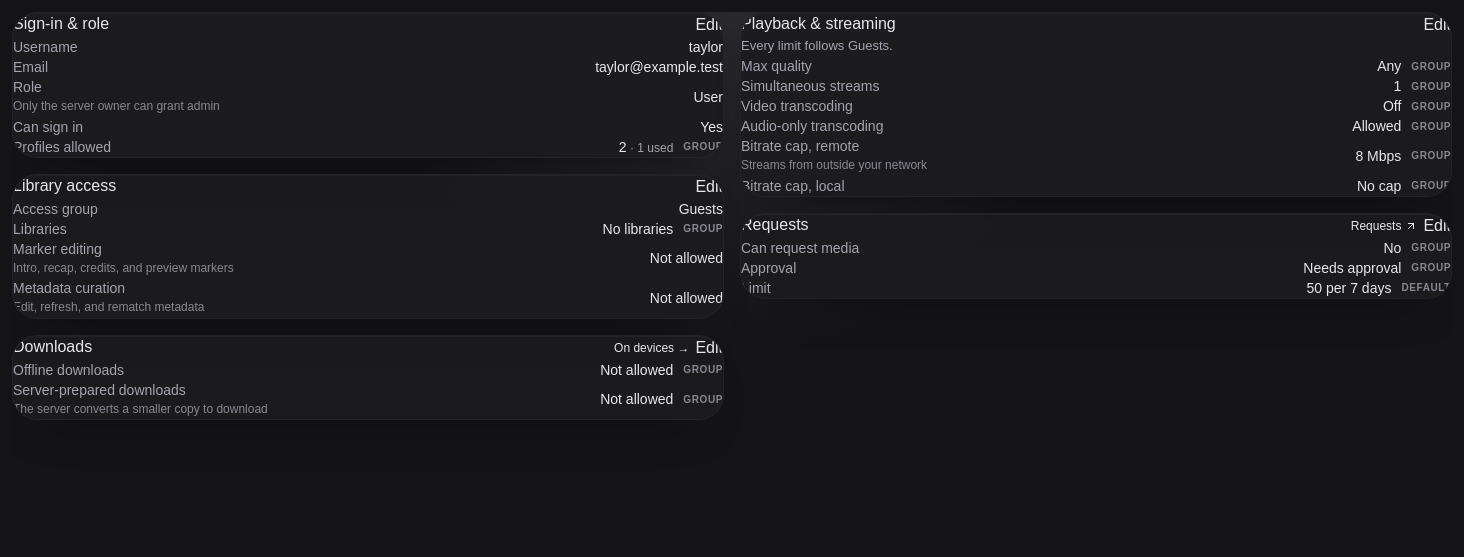
Scenario: Library access › locks a permission the group does not allow
Click the button "Edit" in the row of "Library access" at [709, 186], box [695,174,723,198]
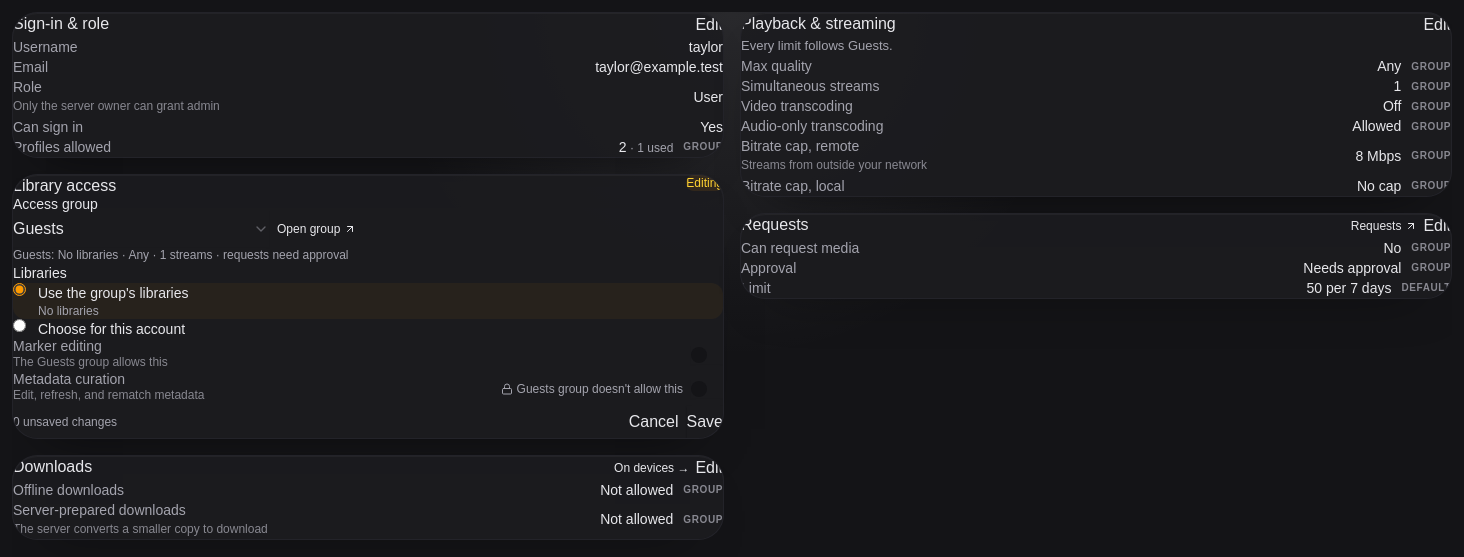
expect the text "Guests group doesn't allow this" is shown: met, box [501,381,683,397]
expect the text "The Guests group allows this" is shown: met, box [13,354,168,368]
